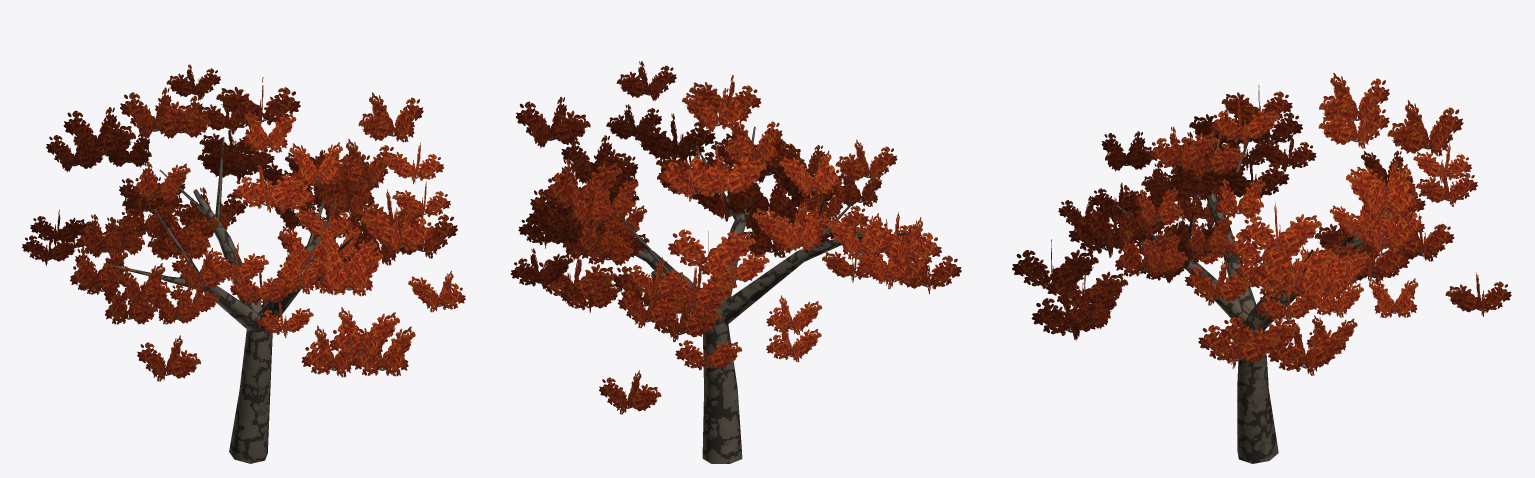
The model's file is maple1_maple_lod0.fbx.
3 views of the same model, side by side, from view 1: azimuth 30°, elevation 25°; view 2: azimuth 150°, elevation 25°; view 3: azimuth 270°, elevation 25° (orthographic). The views are drawn at different scales.
Visible parts, largest first — view 1: maple1_maple_lod0; view 2: maple1_maple_lod0; view 3: maple1_maple_lod0.
Boxes of the visible parts, x1,y1,x2,y2 form: maple1_maple_lod0: (22,64,465,463); maple1_maple_lod0: (510,61,961,463); maple1_maple_lod0: (1012,73,1511,463).
Bounding box in the file's own units: 11.08 × 9.98 × 11.76.
Materials: 2 (2 with a texture image).
